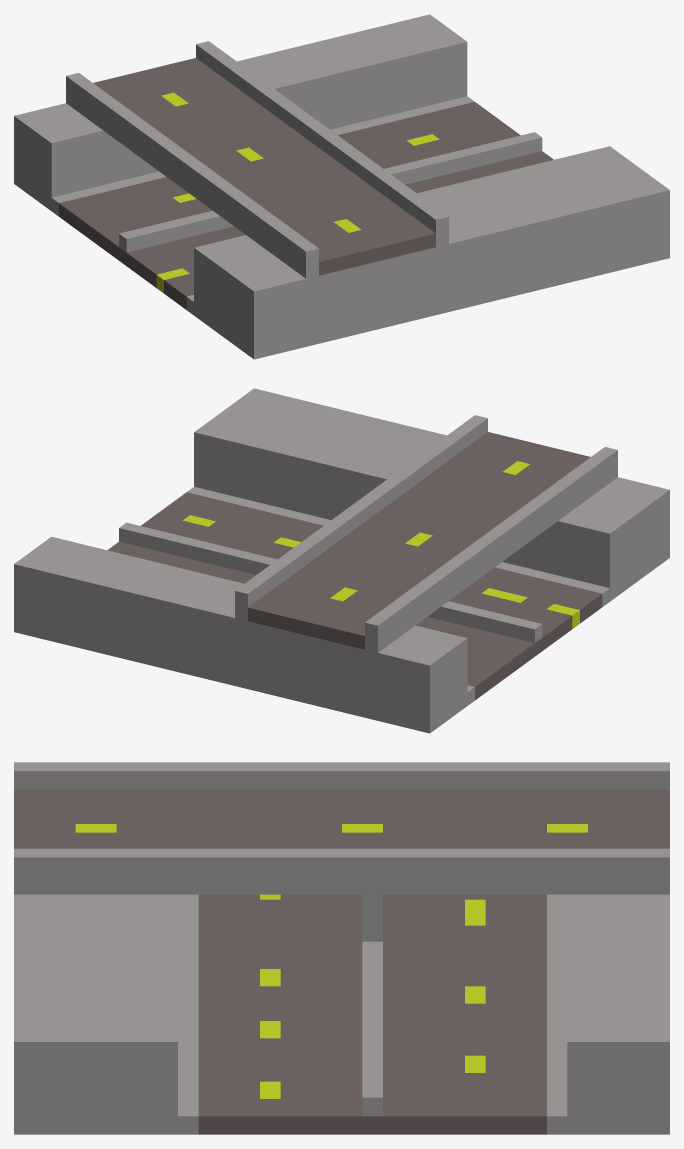
The model's file is drity gracht.gltf.
The picture shows the model from 3 angles, top to bottom: view 1: azimuth 30°, elevation 25°; view 2: azimuth 150°, elevation 25°; view 3: azimuth 270°, elevation 25°; orthographic projection. The views are drawn at different scales.
Visible parts, largest first — view 1: Layer.1; view 2: Layer.1; view 3: Layer.1.
Boxes of the visible parts, x1,y1,x2,y2 form: Layer.1: (14,14,669,359); Layer.1: (14,388,669,733); Layer.1: (14,762,669,1134).
Bounding box in the file's own units: 32 × 7 × 32.
Materials: 1 (1 with a texture image).
